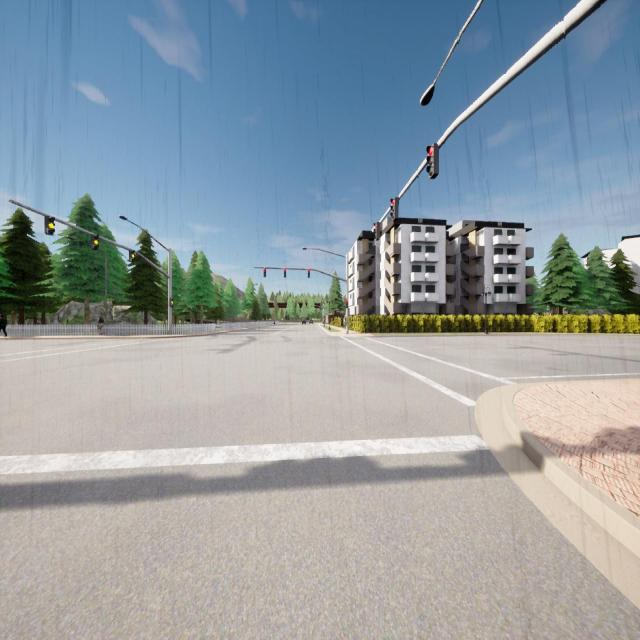Pedestrian: (0, 313, 7, 336), (98, 315, 104, 336)
Vehicle: (309, 319, 313, 324), (302, 320, 306, 324)
traffic_light: (427, 143, 439, 179), (45, 215, 55, 235), (391, 197, 398, 221), (373, 222, 380, 241), (92, 234, 98, 250), (129, 249, 135, 262), (169, 298, 173, 307), (308, 268, 310, 278), (346, 299, 348, 308), (264, 268, 266, 277), (284, 268, 286, 277)
